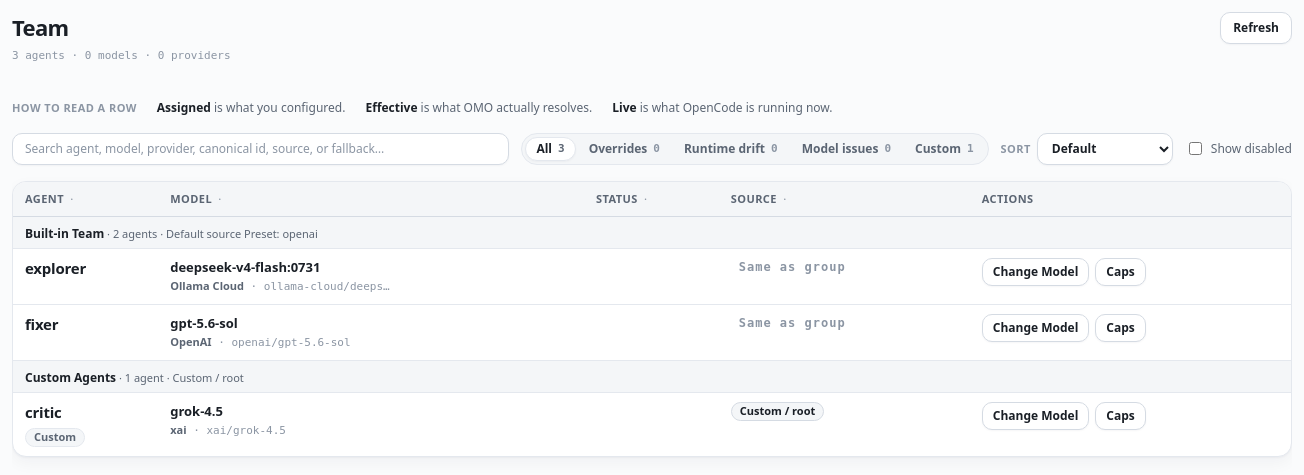
Test case: agents sort — visible Sort control (Provider / Issues First) › Provider sorts flat by provider label; flip button reverses
Select "Provider" in the dropdown labelled "Sort" at (1105,149), box [1037, 133, 1173, 165]
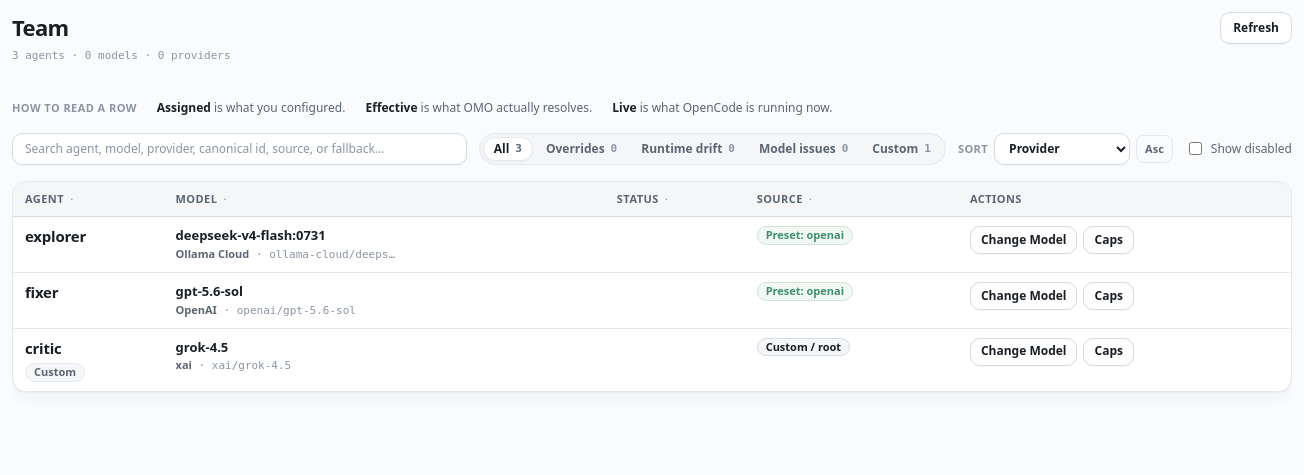
Now the table with class "agents-table" has class "is-flat", box [13, 182, 1291, 391]
# Direction flip appears and reverses the order.
Click the button with aria-label "Sort descending".
click(1154, 149)  # box [1136, 135, 1173, 163]
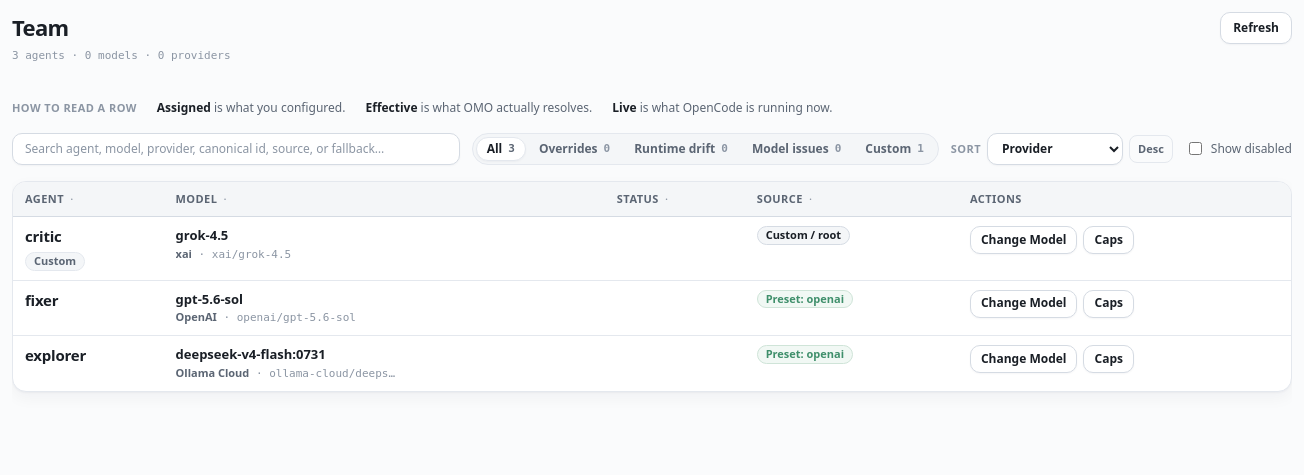
Now the button with aria-label "Sort ascending" is shown, box [1129, 135, 1173, 163]
